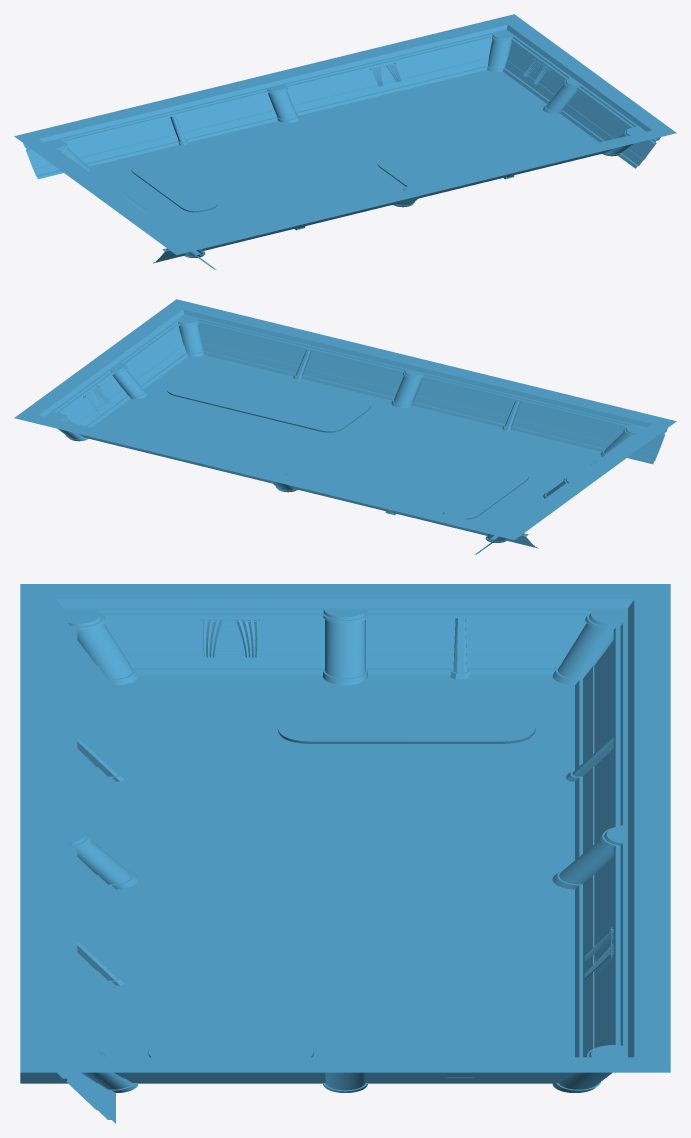
The model's file is Stuff.FBX.
3 renders of one model, top to bottom at view 1: azimuth 30°, elevation 25°; view 2: azimuth 150°, elevation 25°; view 3: azimuth 270°, elevation 25°, orthographic. The views are drawn at different scales.
Visible parts, largest first — view 1: Room_01; view 2: Room_01; view 3: Room_01.
Part boxes in pixels (box(x1,y1,x2,y2)): Room_01: box(14, 14, 676, 269); Room_01: box(14, 299, 676, 554); Room_01: box(20, 584, 670, 1123).
Bounding box in the file's own units: 44.8 × 2.2 × 25.2.
